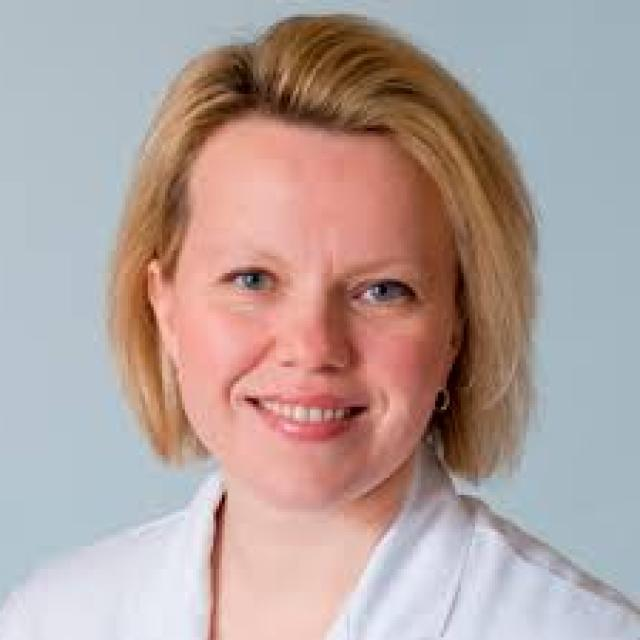normal_face: (131, 82, 484, 507)
